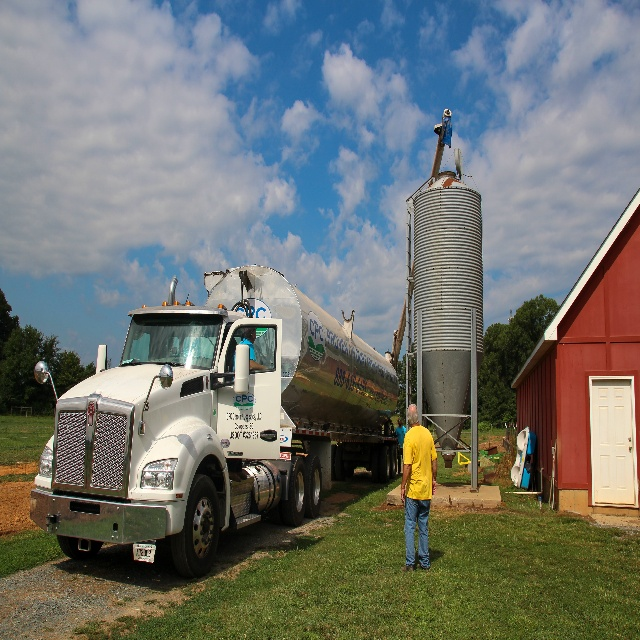Sin_guantes: (400, 487, 406, 505), (432, 480, 437, 496)
